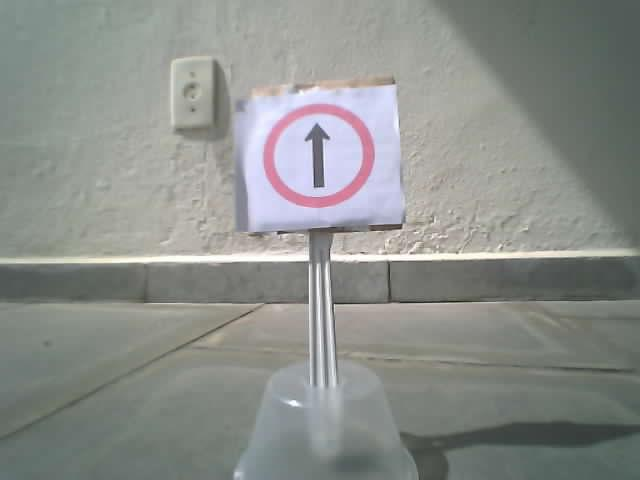R-26_frente: (263, 103, 372, 209)
